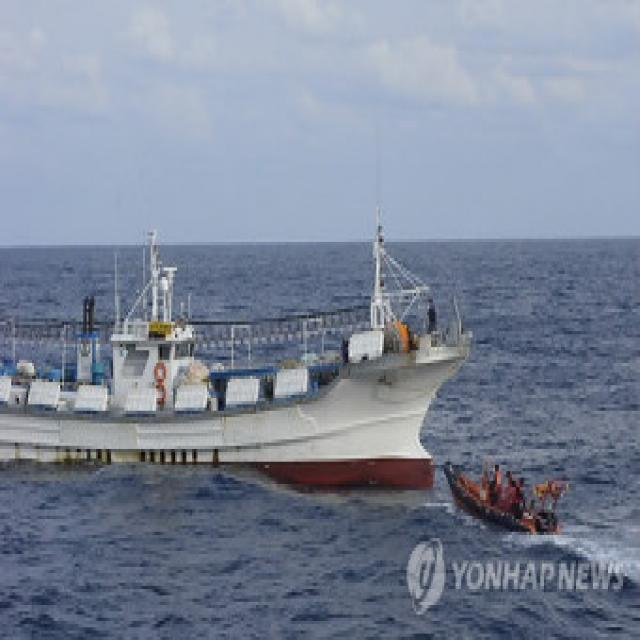Ship: (1, 221, 483, 508)
